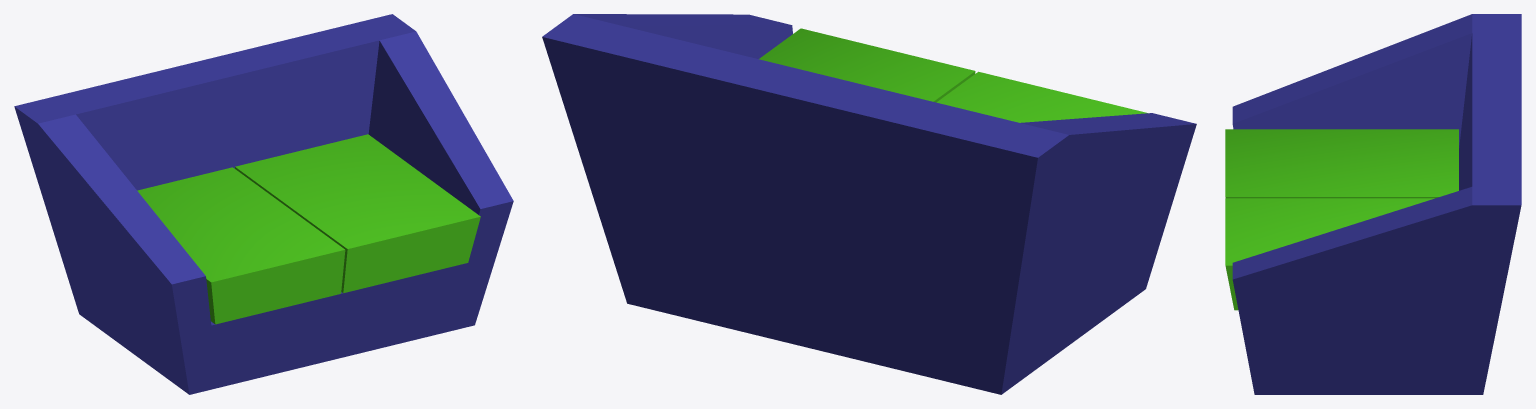
Rendered from House_LivingRoom_Sofa.FBX.
3 renders of one model, left to right at view 1: azimuth 30°, elevation 25°; view 2: azimuth 150°, elevation 25°; view 3: azimuth 270°, elevation 25°, orthographic. The views are drawn at different scales.
Parts seen in each view (by area): view 1: House_LivingRoom_Sofa_chunkLeft, House_LivingRoom_Sofa_chunkRight, House_LivingRoom_Sofa_cushionRight, House_LivingRoom_Sofa_cushionLeft; view 2: House_LivingRoom_Sofa_chunkLeft, House_LivingRoom_Sofa_chunkRight, House_LivingRoom_Sofa_cushionRight, House_LivingRoom_Sofa_cushionLeft; view 3: House_LivingRoom_Sofa_chunkRight, House_LivingRoom_Sofa_chunkLeft, House_LivingRoom_Sofa_cushionLeft, House_LivingRoom_Sofa_cushionRight.
Part boxes in pixels (x1=…): House_LivingRoom_Sofa_chunkLeft: x1=14, y1=60, x2=338, y2=394; House_LivingRoom_Sofa_chunkRight: x1=204, y1=14, x2=513, y2=359; House_LivingRoom_Sofa_cushionRight: x1=235, y1=134, x2=480, y2=293; House_LivingRoom_Sofa_cushionLeft: x1=137, y1=167, x2=345, y2=324; House_LivingRoom_Sofa_chunkLeft: x1=789, y1=74, x2=1196, y2=394; House_LivingRoom_Sofa_chunkRight: x1=542, y1=14, x2=819, y2=348; House_LivingRoom_Sofa_cushionRight: x1=759, y1=28, x2=975, y2=102; House_LivingRoom_Sofa_cushionLeft: x1=936, y1=71, x2=1147, y2=122; House_LivingRoom_Sofa_chunkRight: x1=1232, y1=110, x2=1521, y2=394; House_LivingRoom_Sofa_chunkLeft: x1=1232, y1=14, x2=1521, y2=190; House_LivingRoom_Sofa_cushionLeft: x1=1225, y1=129, x2=1458, y2=198; House_LivingRoom_Sofa_cushionRight: x1=1225, y1=198, x2=1434, y2=310.
Size of the model in its own units: 293 by 152 by 191.
